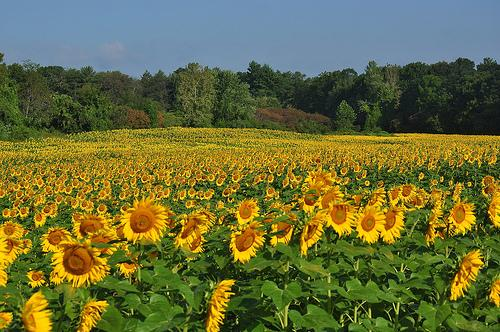sunflower: (51, 243, 111, 288), (120, 197, 165, 244), (450, 250, 481, 300), (208, 278, 235, 332), (72, 213, 114, 244), (229, 227, 265, 261), (325, 198, 356, 237), (301, 208, 327, 254), (355, 203, 384, 243), (21, 294, 51, 332), (447, 199, 475, 235), (304, 167, 338, 191), (41, 227, 72, 253), (299, 183, 327, 211), (382, 208, 404, 242), (235, 199, 255, 225), (0, 220, 21, 238)
